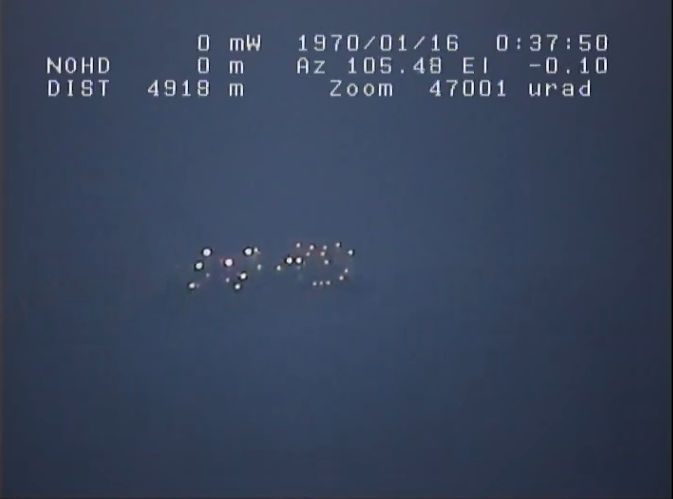CARGO_SHIPS: (133, 230, 387, 318)
